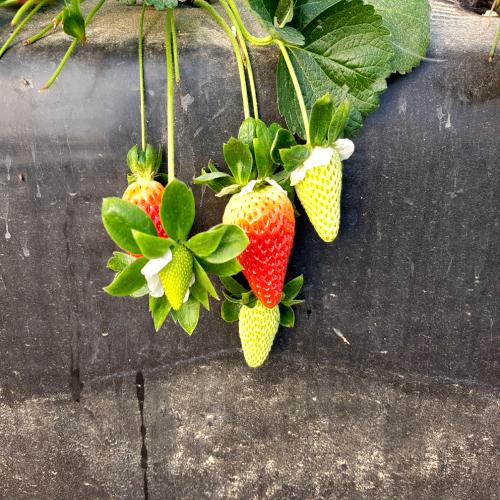partially-ripe: (218, 164, 298, 316)
